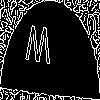W: (25, 25, 51, 74)
